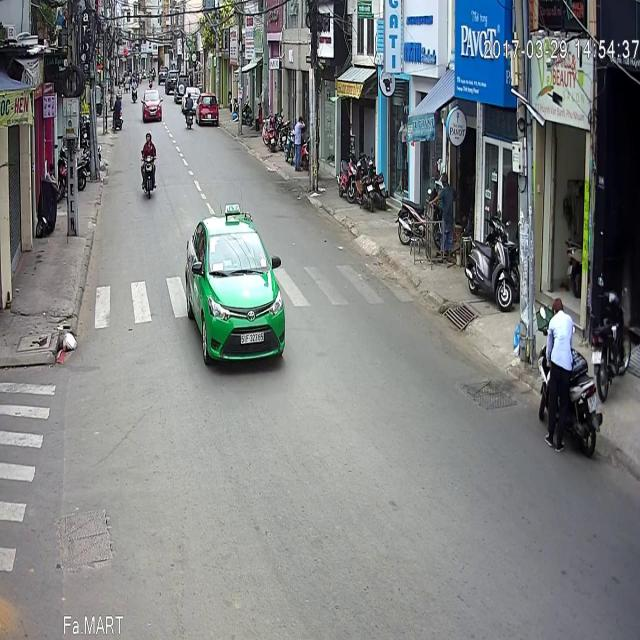car: (184, 138, 288, 316), (195, 34, 219, 68), (141, 31, 163, 63)
motorcycle: (533, 242, 601, 396), (139, 71, 157, 142), (110, 35, 122, 72), (184, 32, 194, 71)
